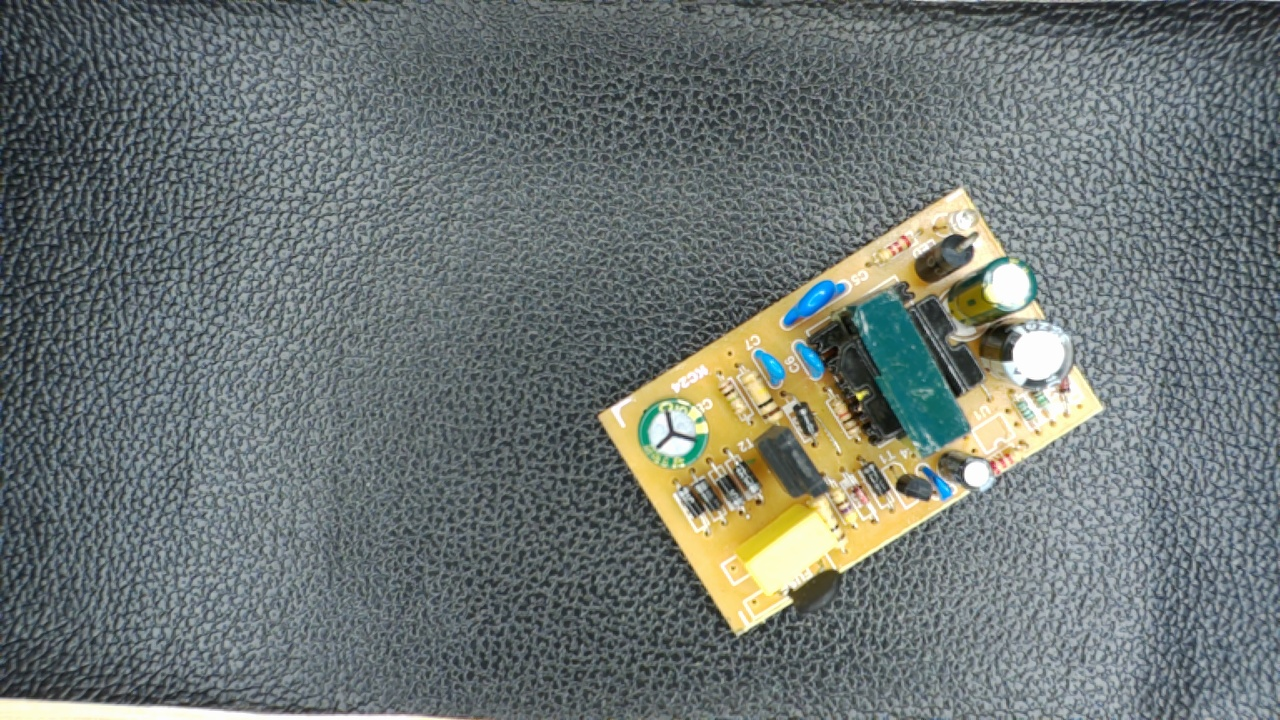fuse: (776, 555, 854, 618)
hv_capacitor: (633, 396, 717, 473)
mov: (774, 276, 860, 332)
